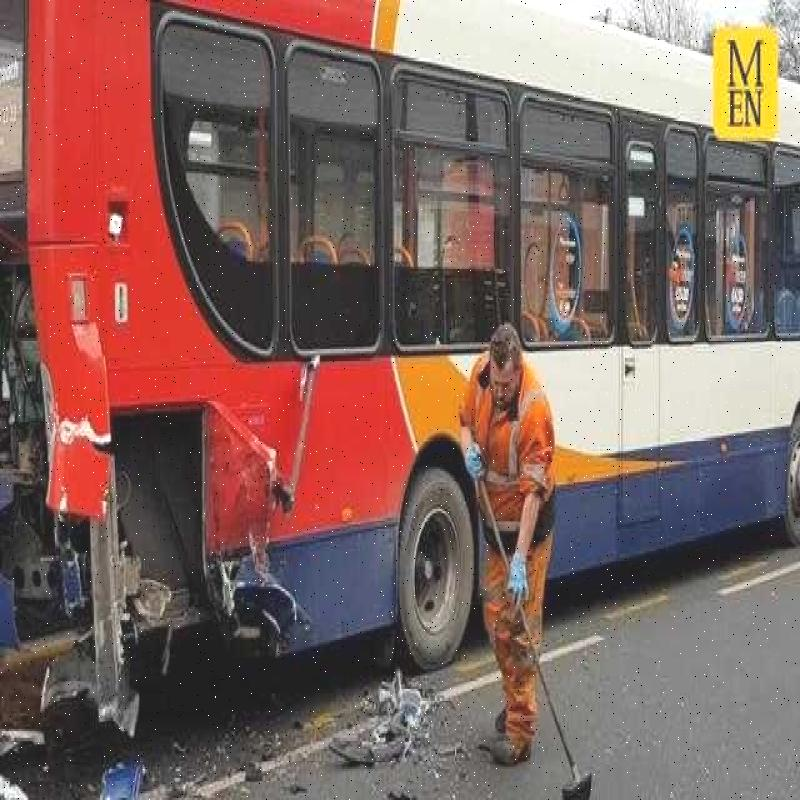bus: (21, 2, 800, 663)
